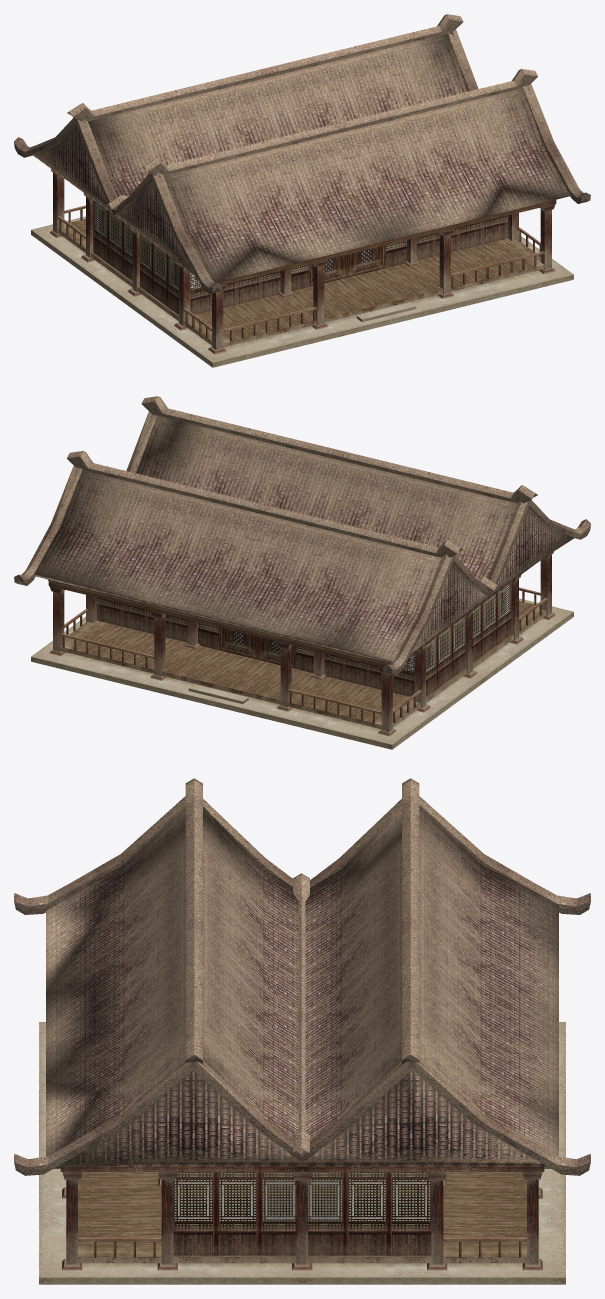
Rendered from desert-033-guesthouse-01.glb.
3 renders of one model, top to bottom at view 1: azimuth 30°, elevation 25°; view 2: azimuth 150°, elevation 25°; view 3: azimuth 270°, elevation 25°, orthographic. The views are drawn at different scales.
Visible parts, largest first — view 1: desert-033-guesthouse-01, desert-033-guesthouse-02; view 2: desert-033-guesthouse-01, desert-033-guesthouse-02; view 3: desert-033-guesthouse-01, desert-033-guesthouse-02.
Part boxes in pixels (box(x1,y1,x2,y2)): desert-033-guesthouse-01: box(14, 14, 590, 354); desert-033-guesthouse-02: box(31, 173, 573, 367); desert-033-guesthouse-01: box(14, 396, 590, 736); desert-033-guesthouse-02: box(31, 555, 573, 749); desert-033-guesthouse-01: box(14, 778, 590, 1270); desert-033-guesthouse-02: box(39, 1022, 565, 1284).
Size of the model in its own units: 20.25 by 8.48 by 17.86.
2 materials, 2 textured.
